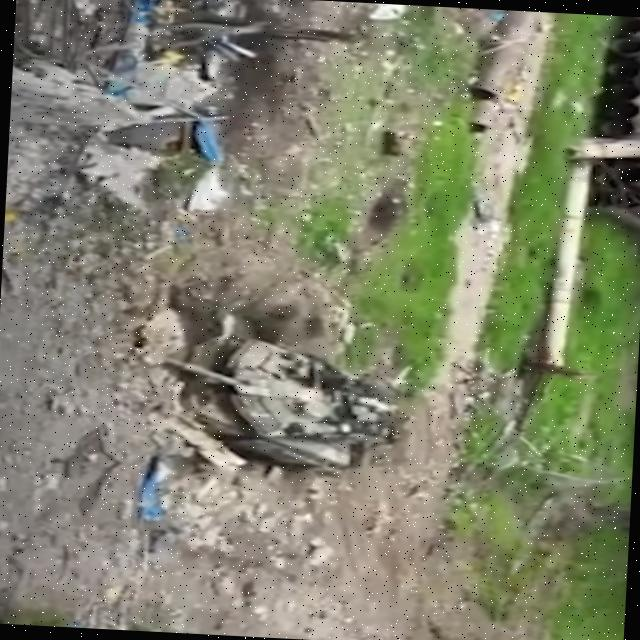MBT: (166, 334, 404, 477)
